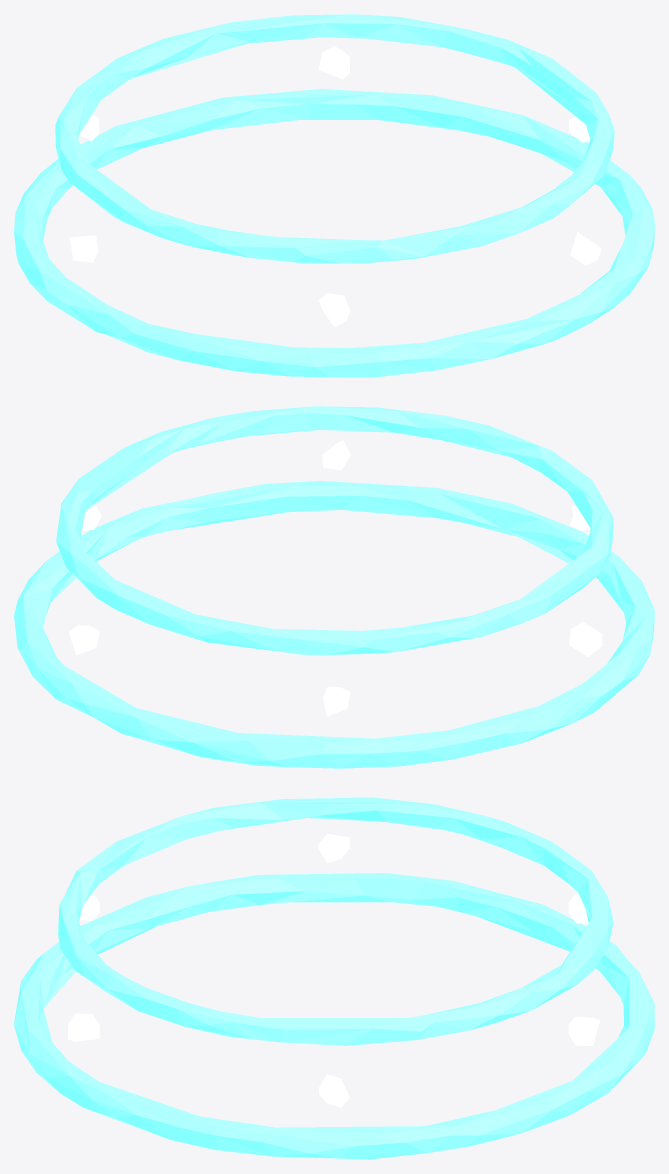
Rendered from bellstone_bands.glb.
3 renders of one model, top to bottom at view 1: azimuth 30°, elevation 25°; view 2: azimuth 150°, elevation 25°; view 3: azimuth 270°, elevation 25°, orthographic.
Parts seen in each view (by area): view 1: bellstone_bands; view 2: bellstone_bands; view 3: bellstone_bands.
Part boxes in pixels (left/top/right/bottom): bellstone_bands: left=14, top=14, right=654, bottom=377; bellstone_bands: left=14, top=406, right=654, bottom=768; bellstone_bands: left=14, top=797, right=654, bottom=1159.
Bounding box in the file's own units: 0.4919 × 0.1011 × 0.4917.
